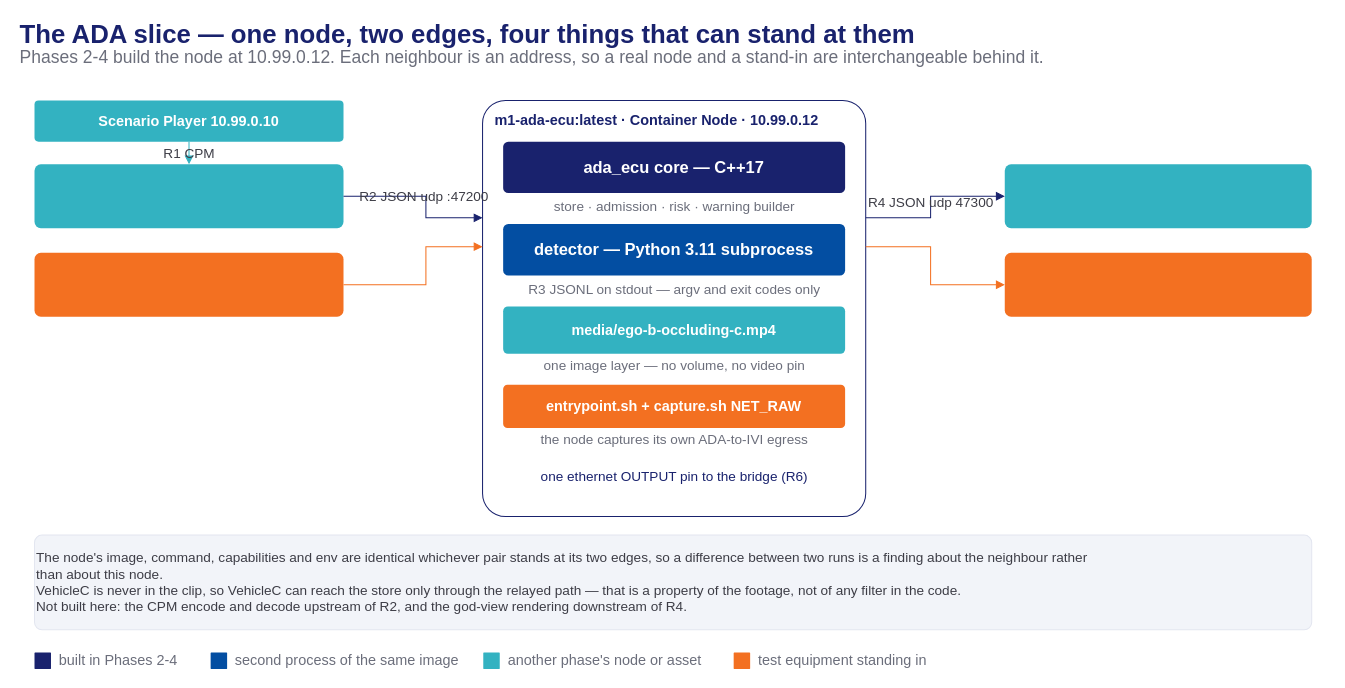
Image size: 1345x688. Some labels were removed from this diagram. Each missing label, with the centre of its shape:
bench emitter ROLE=v2x_mock test equipment at 10.99.0.11: the point at 188,284
bench sink ROLE=ivi_mock test equipment at 10.99.0.13: the point at 1157,284
IVI ECU 10.99.0.13 Skycraft AAOS node — Phase 5: the point at 1157,196
V2X ECU 10.99.0.11 the real node — Phase 1: the point at 188,196
